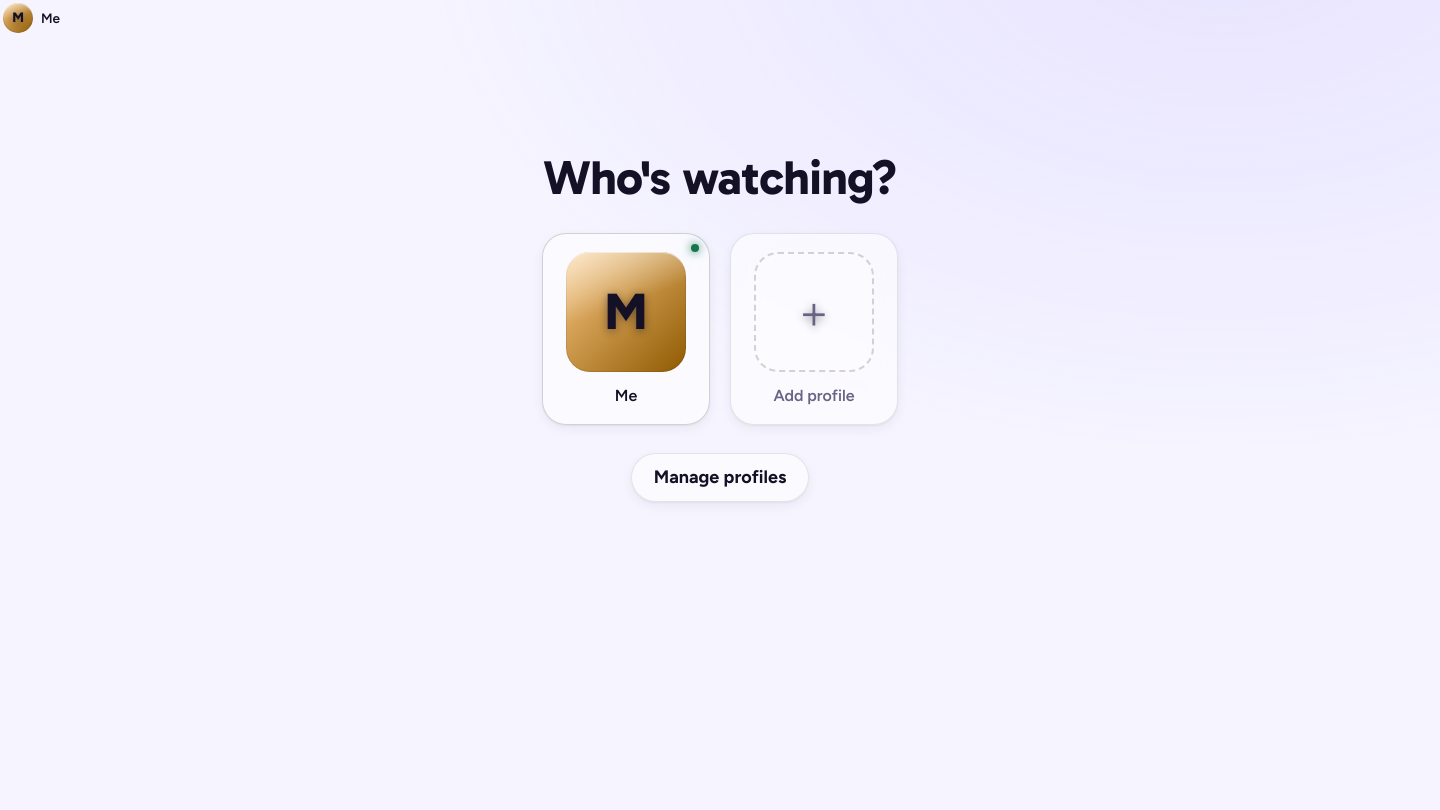
ProfilesPage › adds a kids profile with a chosen avatar, then switches to it
The width and height of the screenshot is (1440, 810).
Click the button "+ Add profile" at (814, 329), box [730,233,898,425]
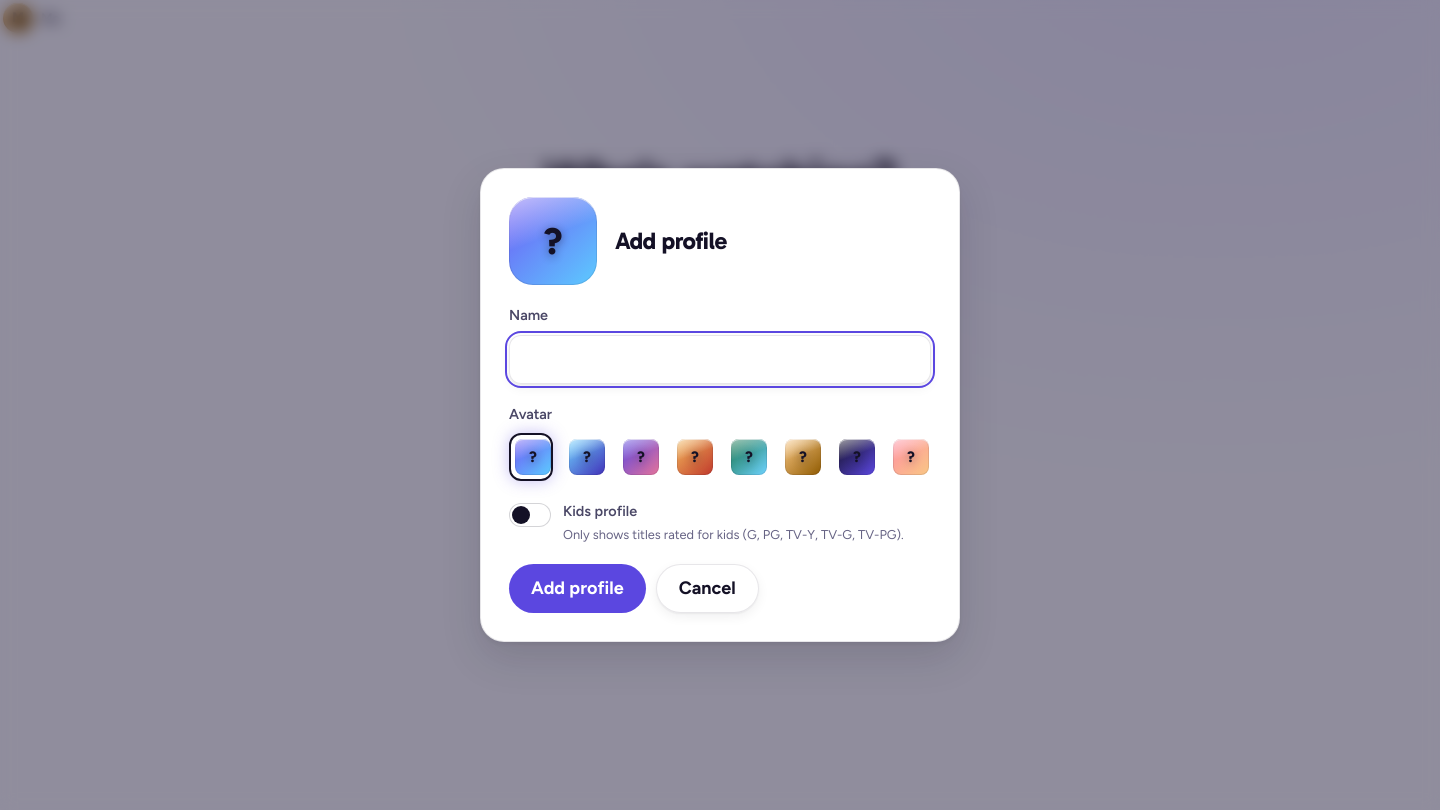
Type "  Kiddo " into the field labelled "Name" at (720, 359), box [509,335,931,384]
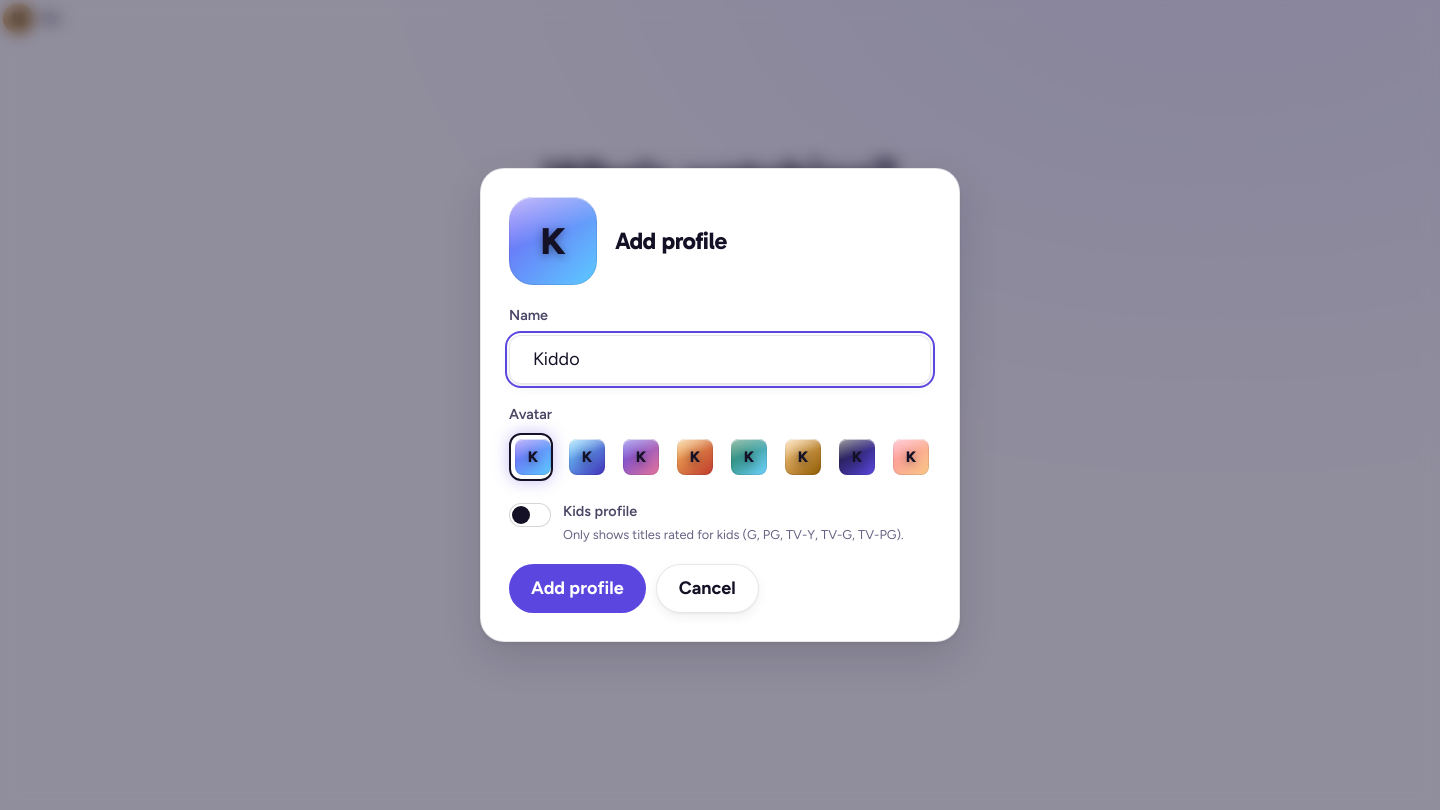
Click the radio button named "Meadow" at (747, 457), box [725,433,769,481]
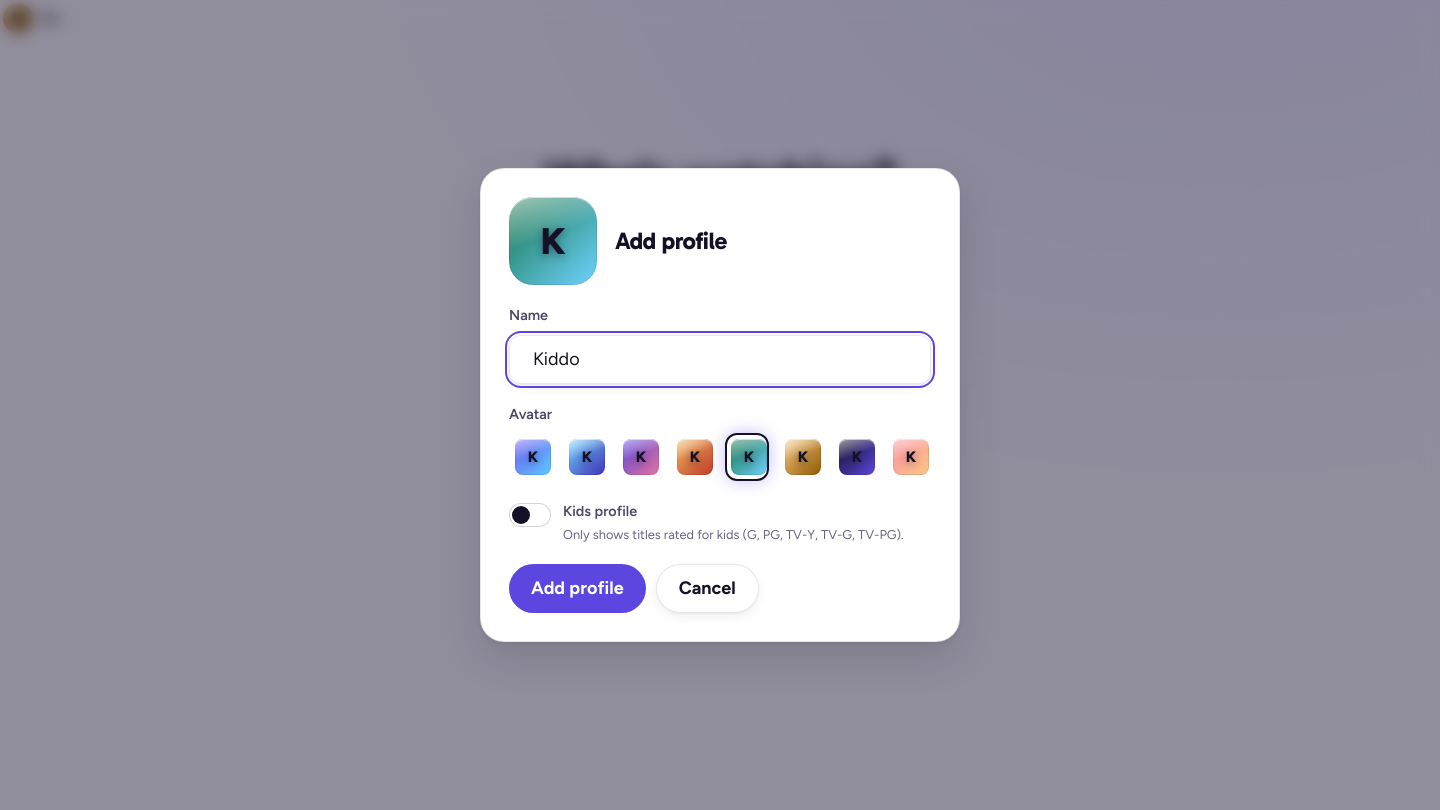
Click the switch at (530, 515), box [509,503,551,527]
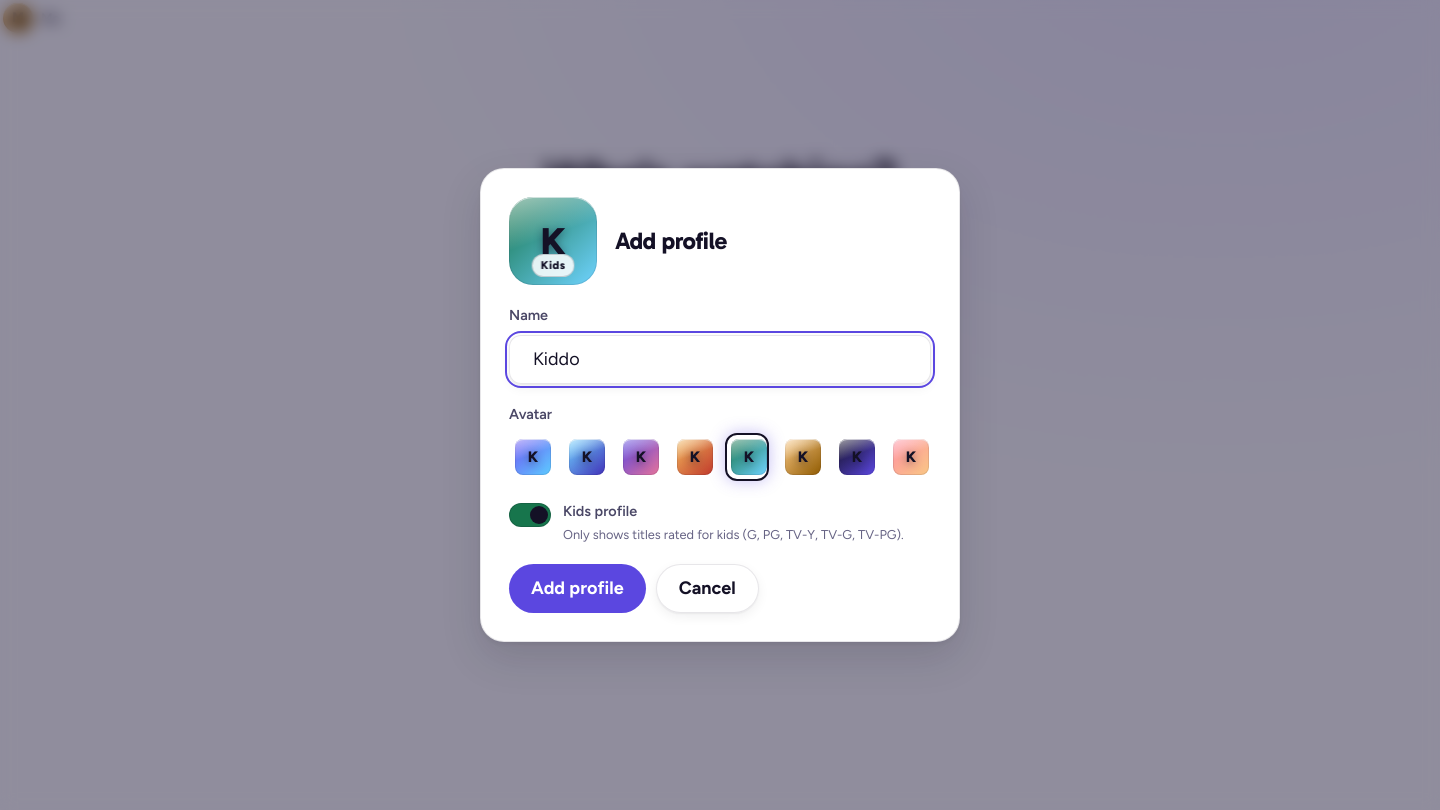
Click the button "Add profile" at (577, 588), box [509,564,646,613]
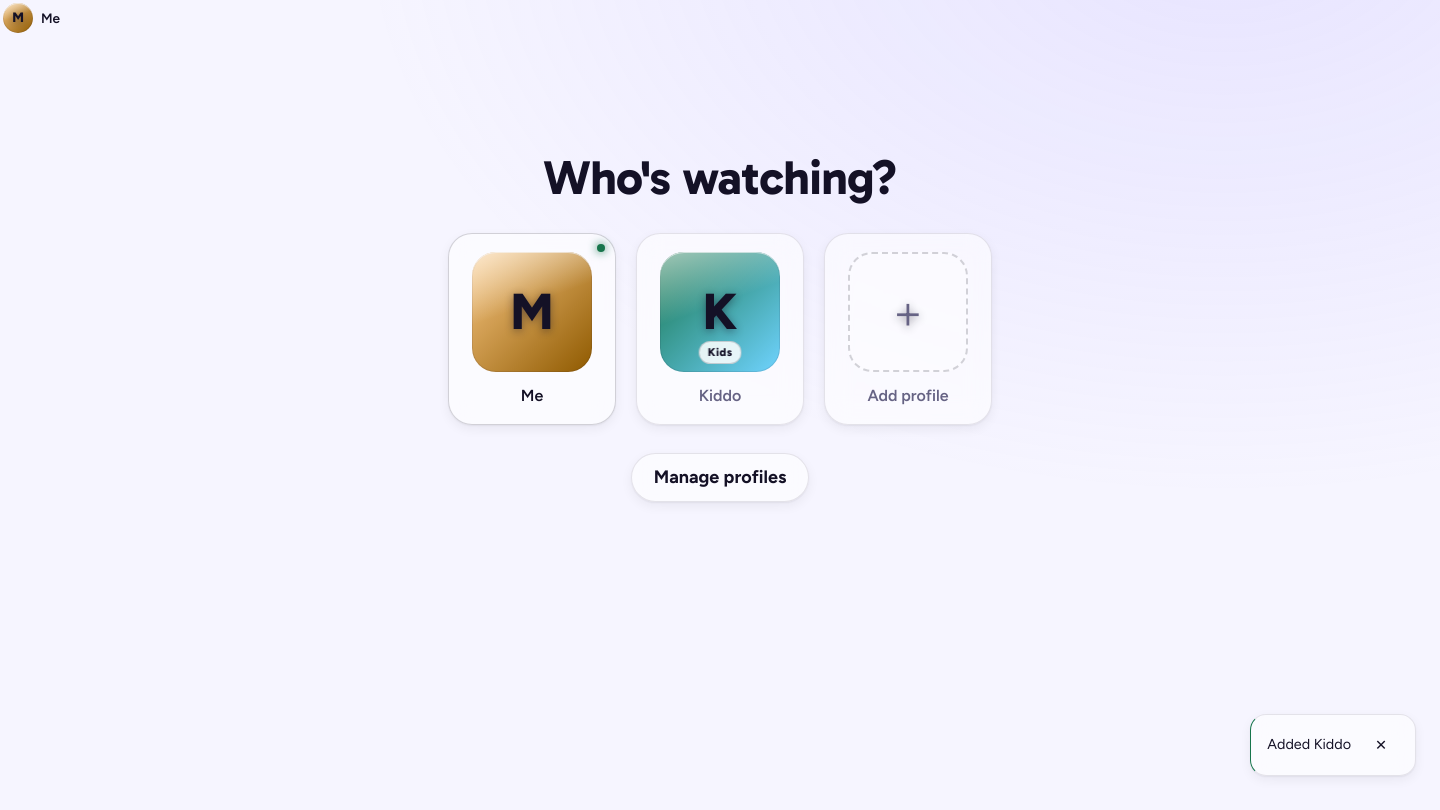
Check: the dialog is gone
Click the button with aria-label "Watch as Kiddo (kids)" at (720, 329), box [636,233,804,425]
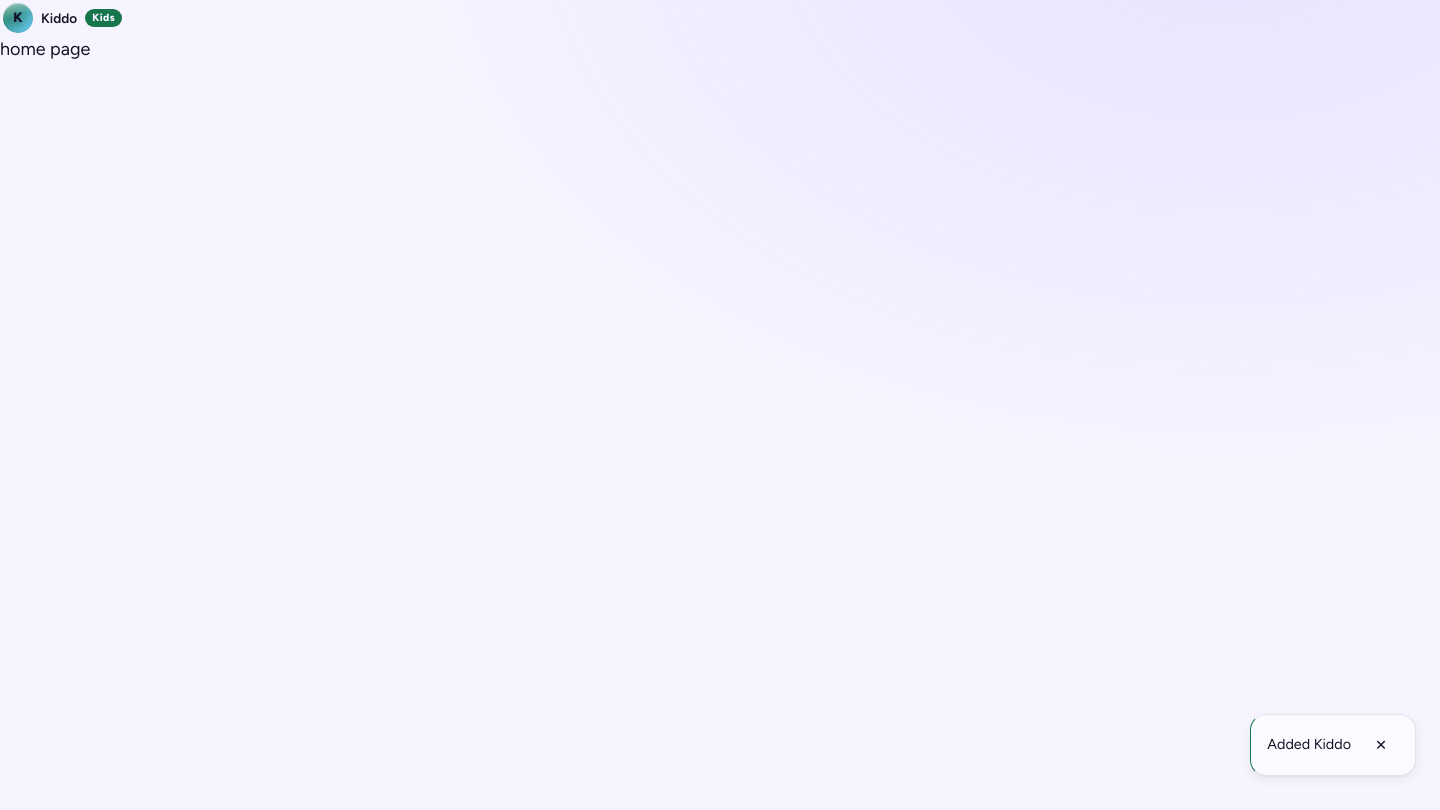
Check: the text "home page" is shown, box [0,38,90,60]
